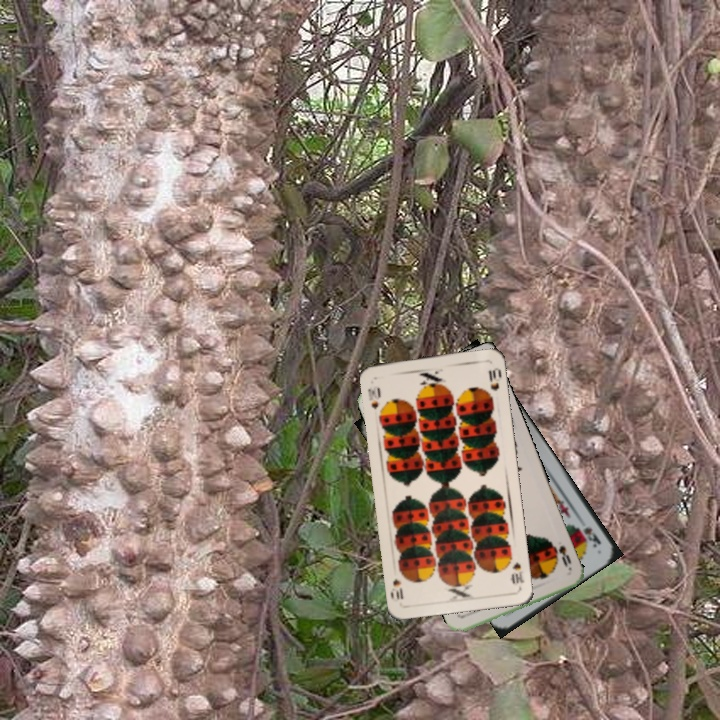S10: (507, 558, 527, 586), (364, 383, 383, 412)
SK: (579, 523, 604, 550)
SO: (555, 541, 574, 570)
